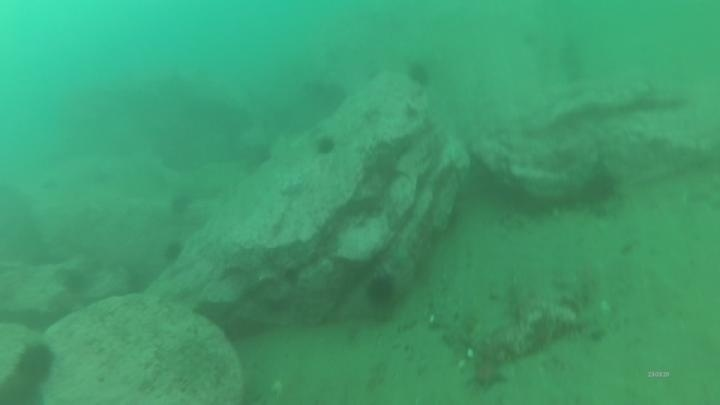echinus: (15, 340, 57, 386), (577, 169, 621, 209), (363, 272, 399, 310), (59, 267, 93, 298), (404, 59, 434, 89), (167, 190, 195, 218), (160, 238, 186, 265), (312, 133, 338, 158)
starfish: (464, 354, 511, 393), (278, 178, 307, 201)
